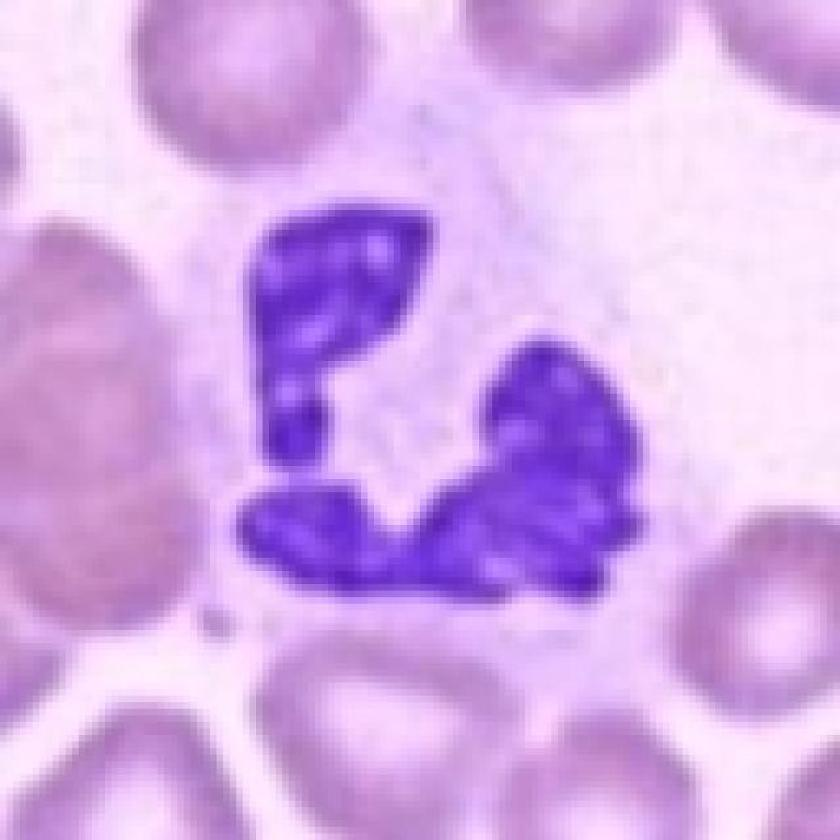neutrophil: (143, 199, 718, 686)
